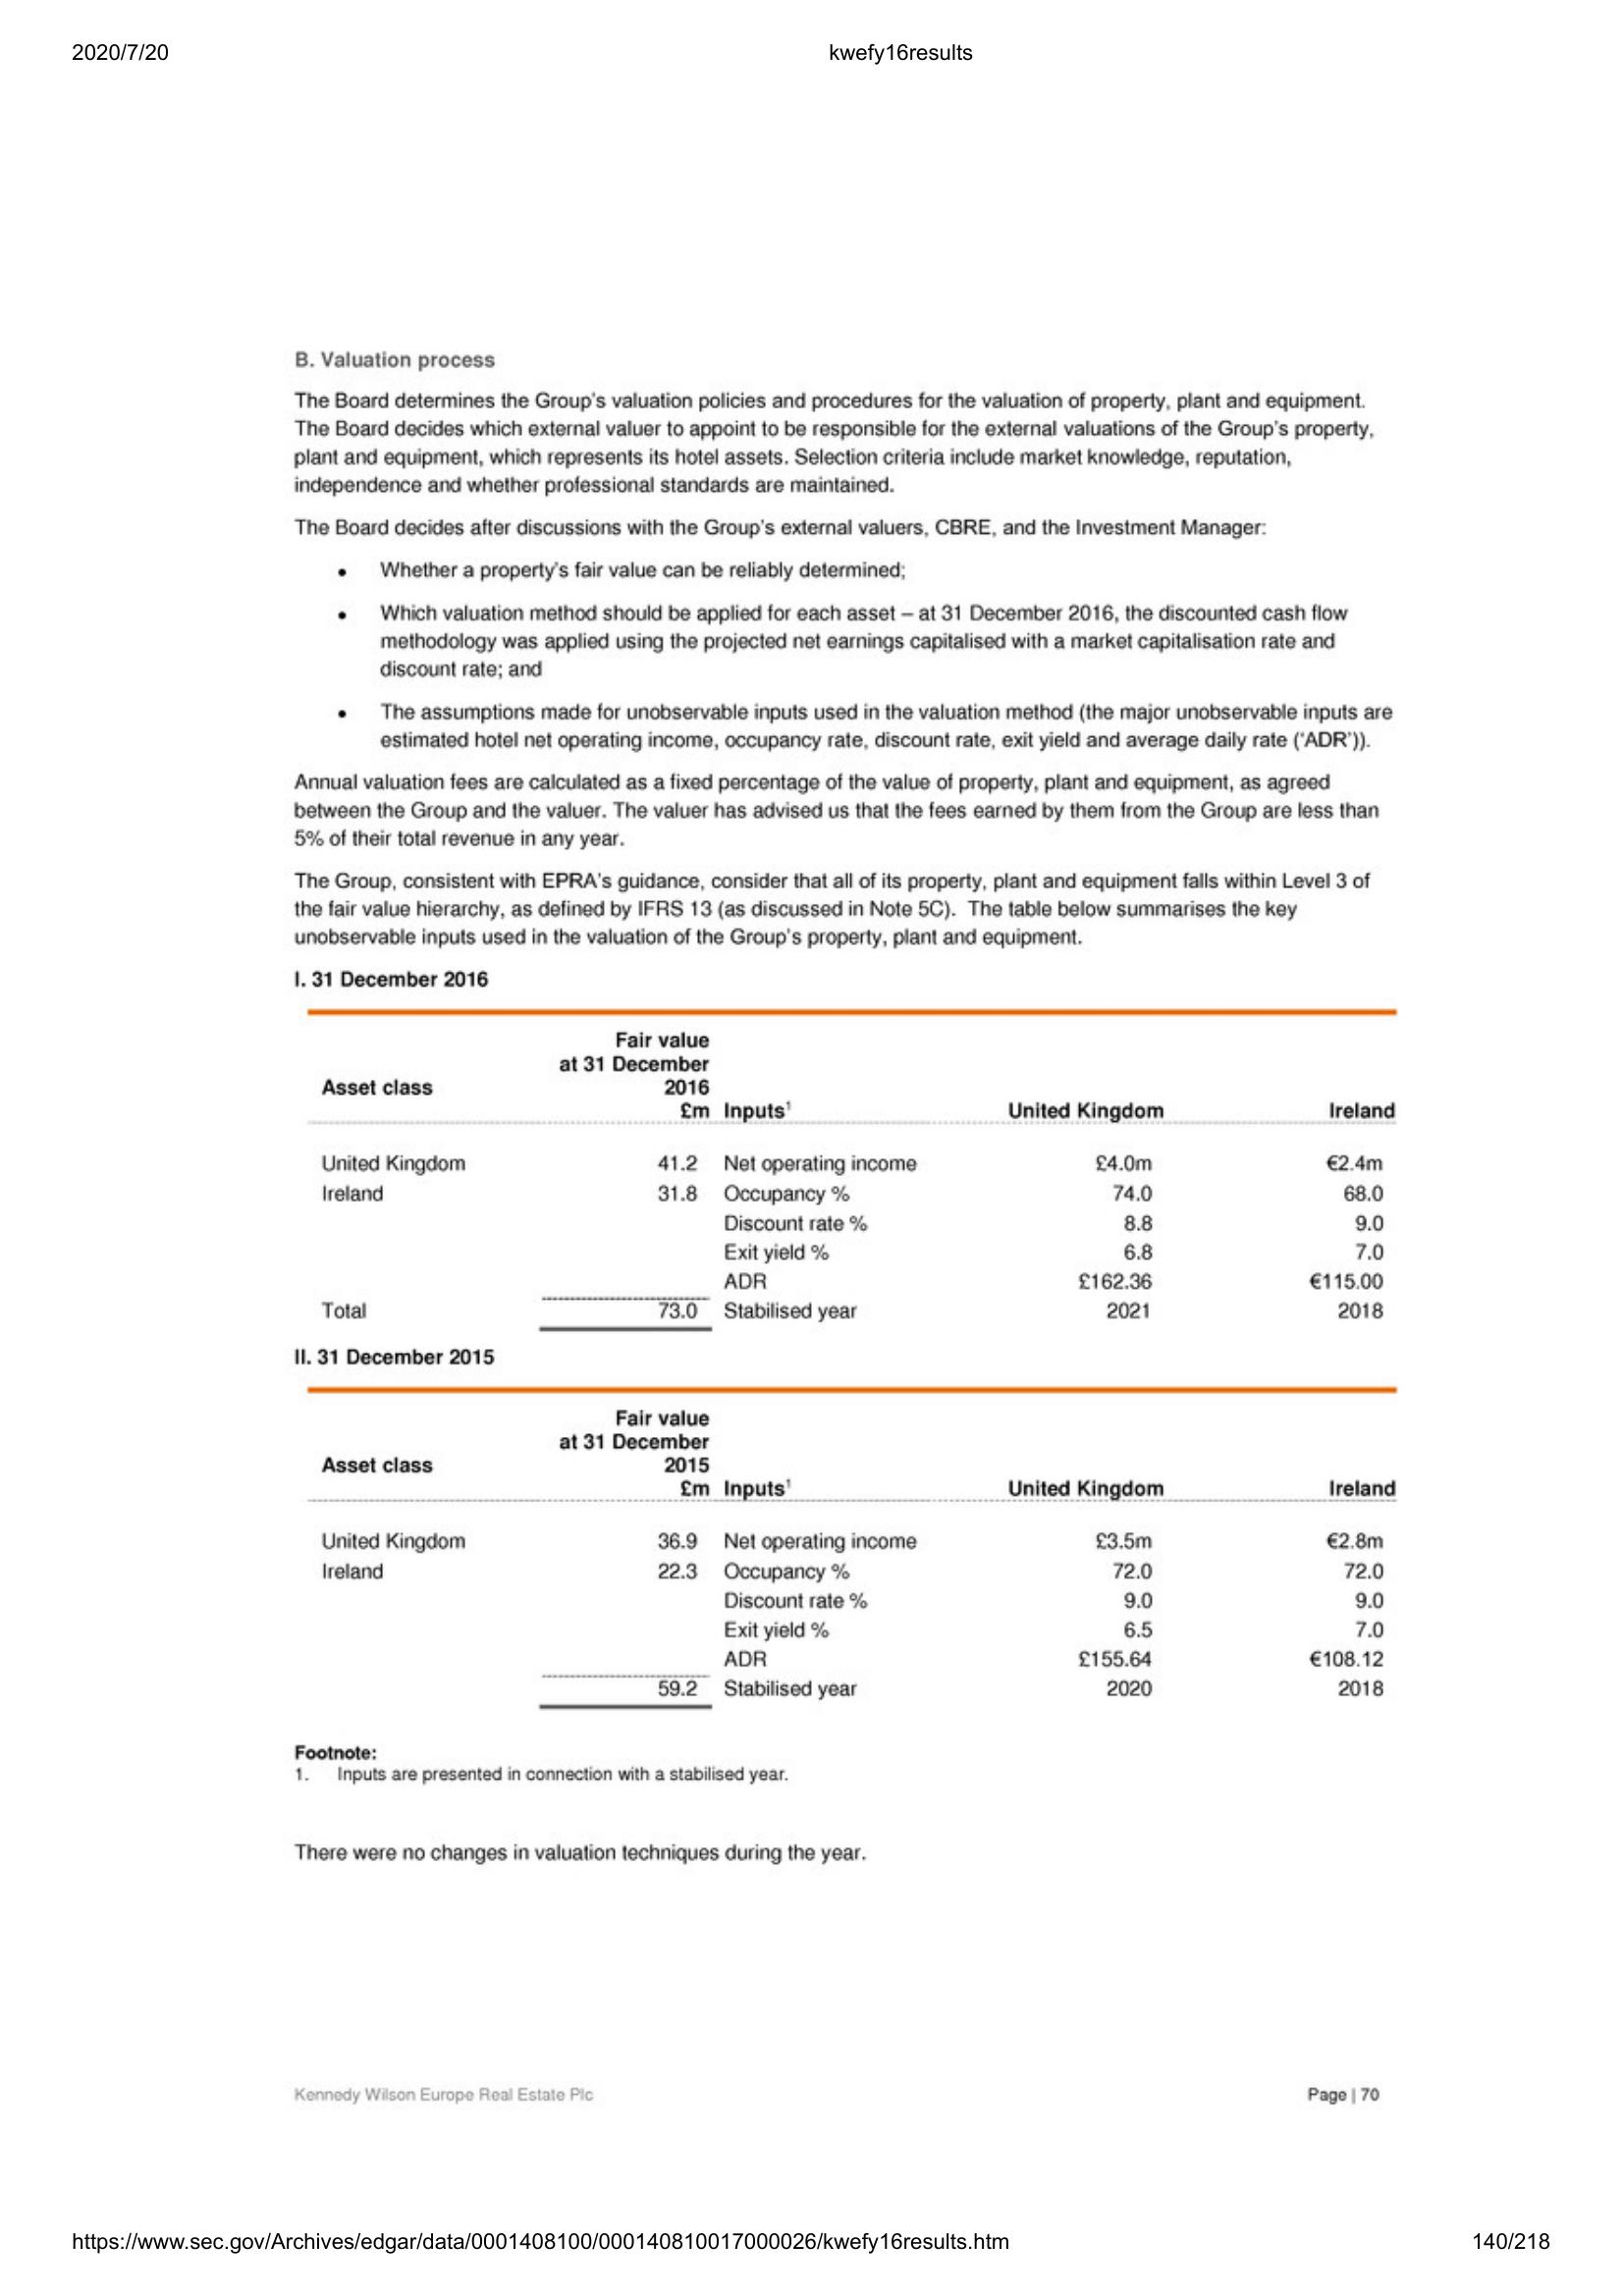table: (304, 1380, 1412, 1740), (292, 999, 1409, 1336)
